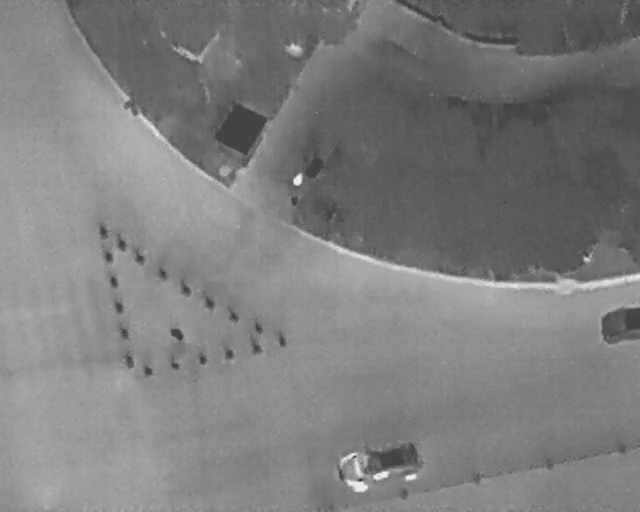Car: (331, 433, 430, 496), (599, 304, 639, 346)
